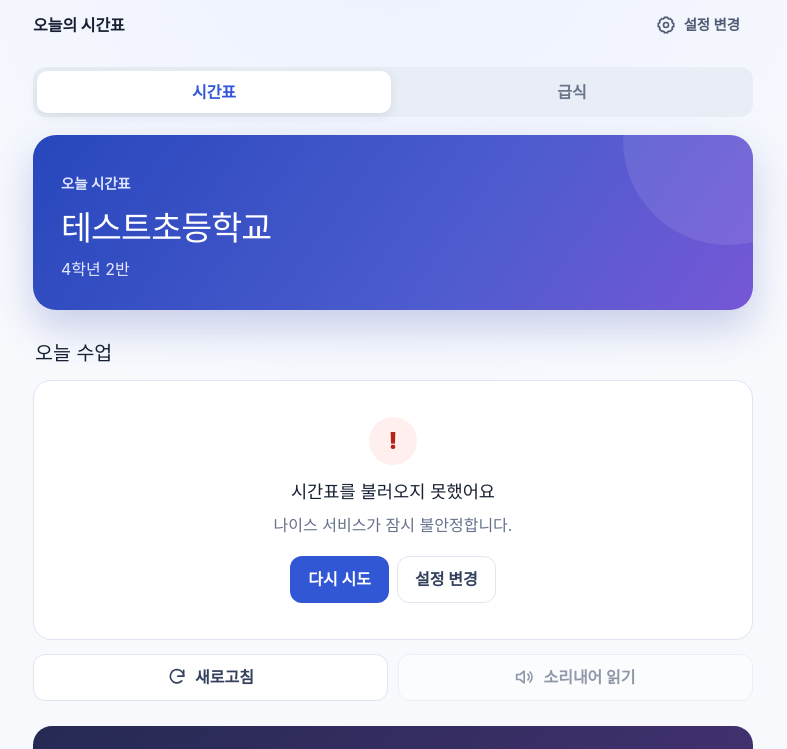
Scenario: TimetableView › shows a safe error and retries the request
The width and height of the screenshot is (787, 749).
Expected: the message shows "나이스 서비스가 잠시 불안정합니다.", [274,514,512,534]
Click the button "다시 시도": (340, 580) [290,556,389,603]
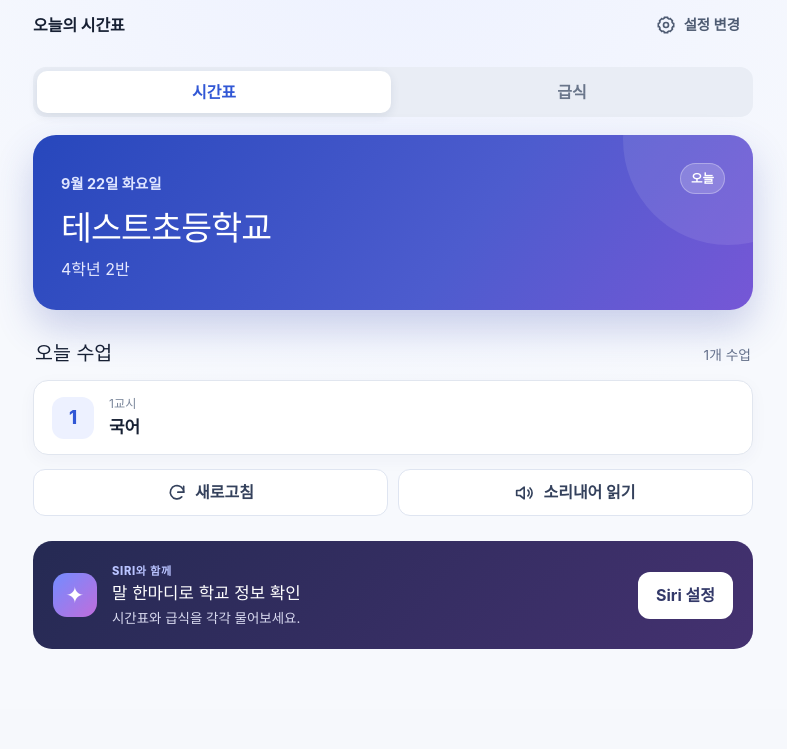
Result: the text "국어" is shown at [109,414,140,440]
